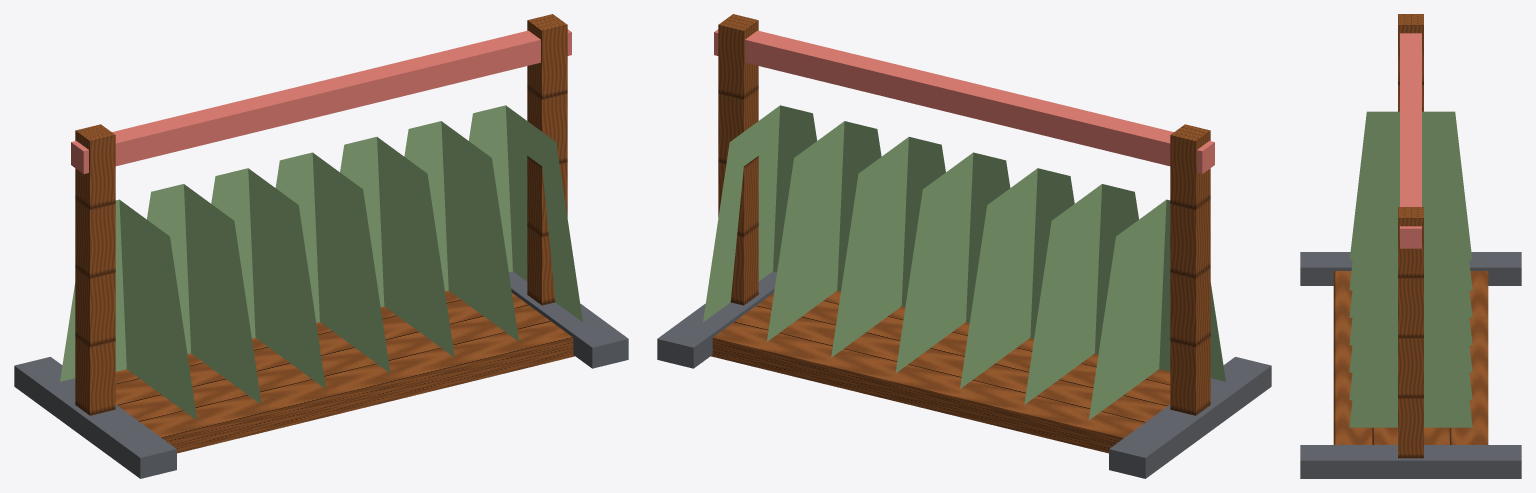
File: dog-agility-and-training-field-brush-fence-7d8eaf85__35592.glb
3 renders of one model, left to right at view 1: azimuth 30°, elevation 25°; view 2: azimuth 150°, elevation 25°; view 3: azimuth 270°, elevation 25°, orthographic. The views are drawn at different scales.
Visible parts, largest first — view 1: brush-fence-grass, brush-fence-timber, brush-fence-poppy, brush-fence-charcoal; view 2: brush-fence-grass, brush-fence-timber, brush-fence-poppy, brush-fence-charcoal; view 3: brush-fence-grass, brush-fence-timber, brush-fence-charcoal, brush-fence-poppy.
Boxes of the visible parts, x1,y1,x2,y2 form: brush-fence-grass: (60,105,582,420); brush-fence-timber: (75,14,574,453); brush-fence-poppy: (71,29,571,173); brush-fence-charcoal: (14,271,628,478); brush-fence-grass: (703,105,1225,420); brush-fence-timber: (711,14,1210,453); brush-fence-poppy: (714,29,1214,173); brush-fence-charcoal: (657,271,1271,478); brush-fence-grass: (1349,111,1472,427); brush-fence-timber: (1333,14,1488,458); brush-fence-charcoal: (1300,252,1521,478); brush-fence-poppy: (1400,33,1421,248).
Size of the model in its own units: 1.34 by 0.78 by 0.6.
4 materials, 1 textured.
